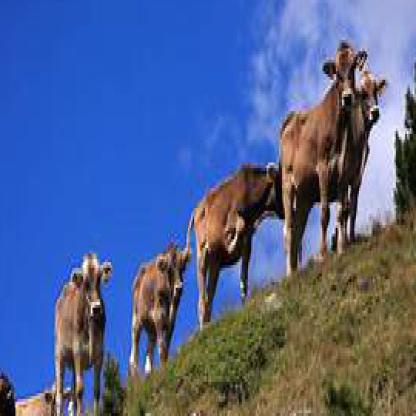cow: (280, 40, 367, 276), (185, 160, 285, 328), (54, 254, 114, 413), (128, 237, 191, 376), (354, 71, 387, 242), (0, 373, 19, 414)
